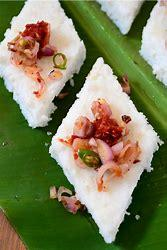Kiribath: (7, 4, 162, 244)
Lunu sambol: (76, 103, 135, 187), (20, 23, 53, 83)
